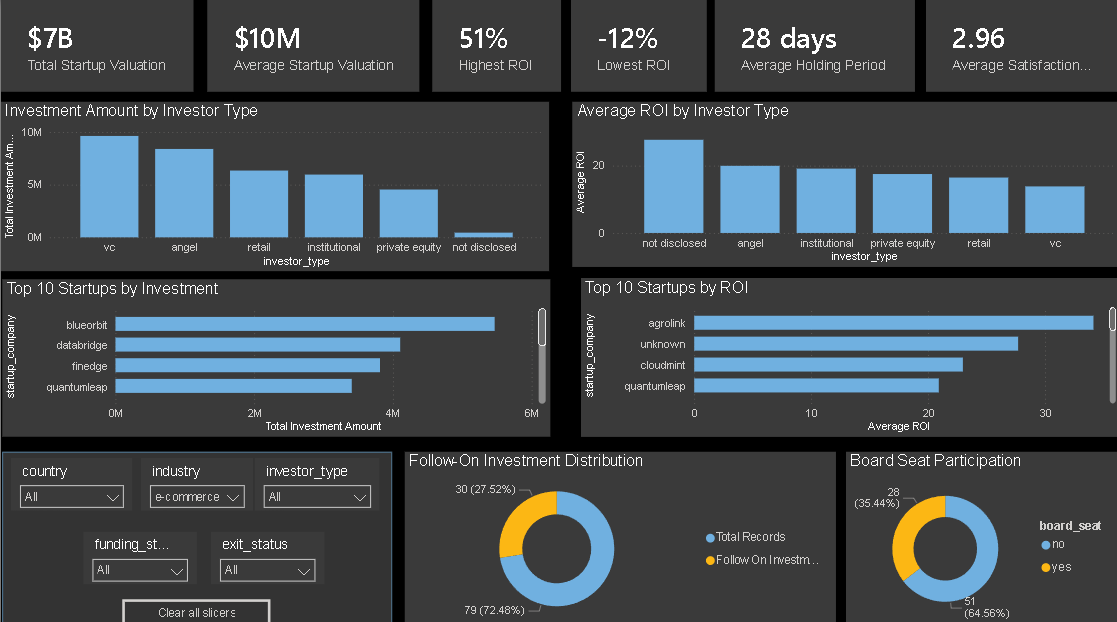

What the dashboard file says about the page in this screenshot:
{"tool":"powerbi","page":{"name":"investor and startup analysis","canvas":[1280,720],"ordinal":1},"visuals":[{"type":"group","id":"g1","title":"Group 1","box":[0,0,1280,107.5],"z":0},{"type":"cardVisual","fields":{"Data":["Measure.Total Startup Valuation"]},"box":[0,0,220,107.5],"z":0,"group":"g1"},{"type":"group","id":"g2","title":"Group 3","box":[1.4,518.6,445.7,201.4],"z":0,"group":"g5"},{"type":"slicer","fields":{"Values":["Fact_Investments.country"]},"box":[12.1,526.4,138.6,59.8],"z":0,"group":"g6"},{"type":"cardVisual","fields":{"Data":["Measure.Average Startup Valuation"]},"box":[235,0,242.5,107.5],"z":1000,"group":"g1"},{"type":"group","id":"g3","title":"Group 2","box":[0,118.1,1280,193.8],"z":1000},{"type":"slicer","fields":{"Values":["Fact_Investments.industry"]},"box":[160,526.4,128.2,59.8],"z":1000,"group":"g6"},{"type":"actionButton","box":[139,687.5,169.4,32.5],"z":1000,"group":"g5"},{"type":"cardVisual","fields":{"Data":["Measure.Highest ROI"]},"box":[492.5,0,147.5,107.5],"z":2000,"group":"g1"},{"type":"group","id":"g4","title":"Group 3","box":[1,319.8,1278.7,181.2],"z":2000},{"type":"slicer","fields":{"Values":["Fact_Investments.investor_type"]},"box":[291.3,526.4,142.7,59.8],"z":2000,"group":"g6"},{"type":"cardVisual","fields":{"Data":["Measure.Lowest ROI"]},"box":[651.2,0,155,107.5],"z":3000,"group":"g1"},{"type":"donutChart","title":"Follow-On Investment Distribution","fields":{"Y":["Measure.Total Records","Measure.Follow On Investment Count"]},"box":[461.4,518.6,492.9,201.4],"z":3000},{"type":"slicer","fields":{"Values":["Fact_Investments.funding_stage"]},"box":[94.8,610.5,129.3,59.8],"z":3000,"group":"g6"},{"type":"cardVisual","fields":{"Data":["Fact_Investments.Average Holding Period"]},"box":[816.2,0,228.8,107.5],"z":4000,"group":"g1"},{"type":"donutChart","title":"Board Seat Participation","fields":{"Category":["Fact_Investments.board_seat"],"Y":["Measure.Total Records"]},"box":[965.7,518.6,314.3,201.4],"z":4000},{"type":"slicer","fields":{"Values":["Fact_Investments.exit_status"]},"box":[240.6,610.5,129.3,59.8],"z":4000,"group":"g6"},{"type":"cardVisual","fields":{"Data":["Measure.Average Satisfaction Score"]},"box":[1057.5,0,222.5,107.5],"z":5000,"group":"g1"},{"type":"group","id":"g5","title":"Group 4","box":[1.4,518.6,445.7,201.4],"z":5000},{"type":"clusteredColumnChart","title":"Investment Amount by Investor Type","fields":{"Category":["Fact_Investments.investor_type"],"Y":["Measure.Total Investment Amount"]},"box":[0,118.1,626.2,193.8],"z":6000,"group":"g3"},{"type":"columnChart","title":"Average ROI by Investor Type","fields":{"Category":["Fact_Investments.investor_type"],"Y":["Measure.Average ROI"]},"box":[652.5,118.1,627.5,188.8],"z":7000,"group":"g3"},{"type":"clusteredBarChart","title":"Top 10 Startups by Investment","fields":{"Category":["Fact_Investments.startup_company"],"Y":["Measure.Total Investment Amount"]},"box":[1,321,626.2,180],"z":8000,"group":"g4"},{"type":"clusteredBarChart","title":"Top 10 Startups by ROI","fields":{"Category":["Fact_Investments.startup_company"],"Y":["Measure.Average ROI"]},"box":[662.2,319.8,617.5,181.2],"z":9000,"group":"g4"},{"type":"shape","box":[1.4,518.6,445.7,201.4],"z":10001,"group":"g2"},{"type":"group","id":"g6","title":"Group 2","box":[12.1,526.4,422.4,143.9],"z":10008,"group":"g2"}]}

Visuals, with their boxes in screenshot pixels (x1, y1, x2, y2), scaled from the page's 1280x720 canvas onto the 1117x622 screenshot:
"Group 1" group: [0, 0, 1116, 93]
cardVisual - Measure.Total Startup Valuation: [0, 0, 192, 93]
"Group 3" group: [1, 448, 390, 621]
slicer - Fact_Investments.country: [11, 455, 132, 506]
cardVisual - Measure.Average Startup Valuation: [205, 0, 417, 93]
"Group 2" group: [0, 102, 1116, 269]
slicer - Fact_Investments.industry: [140, 455, 251, 506]
actionButton: [121, 594, 269, 621]
cardVisual - Measure.Highest ROI: [430, 0, 558, 93]
"Group 3" group: [1, 276, 1116, 433]
slicer - Fact_Investments.investor_type: [254, 455, 379, 506]
cardVisual - Measure.Lowest ROI: [568, 0, 704, 93]
"Follow-On Investment Distribution" donutChart: [403, 448, 833, 621]
slicer - Fact_Investments.funding_stage: [83, 527, 196, 579]
cardVisual - Fact_Investments.Average Holding Period: [712, 0, 912, 93]
"Board Seat Participation" donutChart: [843, 448, 1116, 621]
slicer - Fact_Investments.exit_status: [210, 527, 323, 579]
cardVisual - Measure.Average Satisfaction Score: [923, 0, 1116, 93]
"Group 4" group: [1, 448, 390, 621]
"Investment Amount by Investor Type" clusteredColumnChart: [0, 102, 546, 269]
"Average ROI by Investor Type" columnChart: [569, 102, 1116, 265]
"Top 10 Startups by Investment" clusteredBarChart: [1, 277, 547, 433]
"Top 10 Startups by ROI" clusteredBarChart: [578, 276, 1116, 433]
shape: [1, 448, 390, 621]
"Group 2" group: [11, 455, 379, 579]
